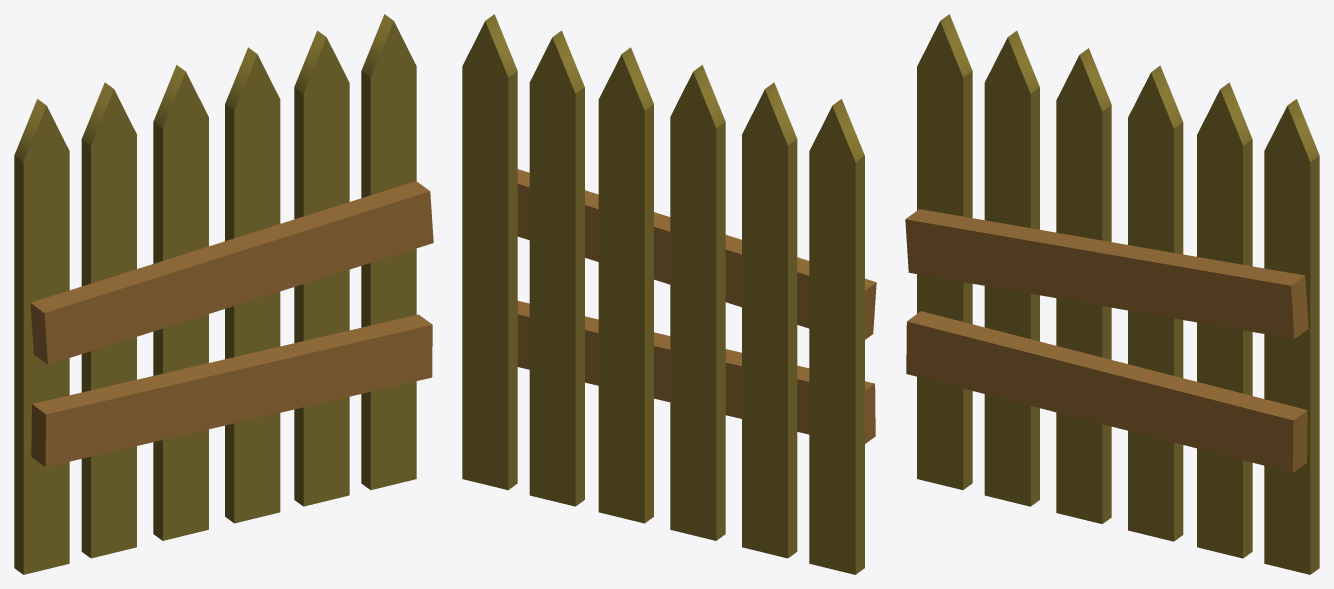
The model's file is Fence.fbx.
3 views of the same model, side by side, from view 1: azimuth 30°, elevation 25°; view 2: azimuth 150°, elevation 25°; view 3: azimuth 330°, elevation 25° (orthographic).
Parts seen in each view (by area): view 1: Fencepost8, Fencepost9, Fencepost1, Fencepost5, Fencepost7, Fencepost6, Fencepost2, Fencepost3; view 2: Fencepost6, Fencepost2, Fencepost3, Fencepost5, Fencepost1, Fencepost7, Fencepost8, Fencepost9; view 3: Fencepost9, Fencepost8, Fencepost7, Fencepost1, Fencepost6, Fencepost5, Fencepost3, Fencepost2.
Boxes of the visible parts, x1,y1,x2,y2 form: Fencepost8: [30, 181, 433, 364]; Fencepost9: [31, 314, 432, 466]; Fencepost1: [14, 99, 69, 574]; Fencepost5: [225, 47, 280, 523]; Fencepost7: [361, 14, 416, 489]; Fencepost6: [294, 30, 349, 506]; Fencepost2: [81, 82, 136, 558]; Fencepost3: [153, 65, 208, 540]; Fencepost6: [529, 30, 584, 506]; Fencepost2: [742, 82, 797, 558]; Fencepost3: [670, 65, 725, 540]; Fencepost5: [598, 47, 653, 523]; Fencepost1: [809, 99, 864, 574]; Fencepost7: [462, 14, 517, 490]; Fencepost8: [517, 169, 876, 339]; Fencepost9: [517, 301, 875, 443]; Fencepost9: [906, 311, 1307, 472]; Fencepost8: [905, 209, 1308, 339]; Fencepost7: [1264, 99, 1319, 574]; Fencepost1: [917, 14, 972, 489]; Fencepost6: [1197, 82, 1252, 558]; Fencepost5: [1128, 65, 1183, 541]; Fencepost3: [1056, 48, 1111, 524]; Fencepost2: [984, 31, 1039, 506].
Size of the model in its own units: 3.58 by 4.03 by 0.4051.
